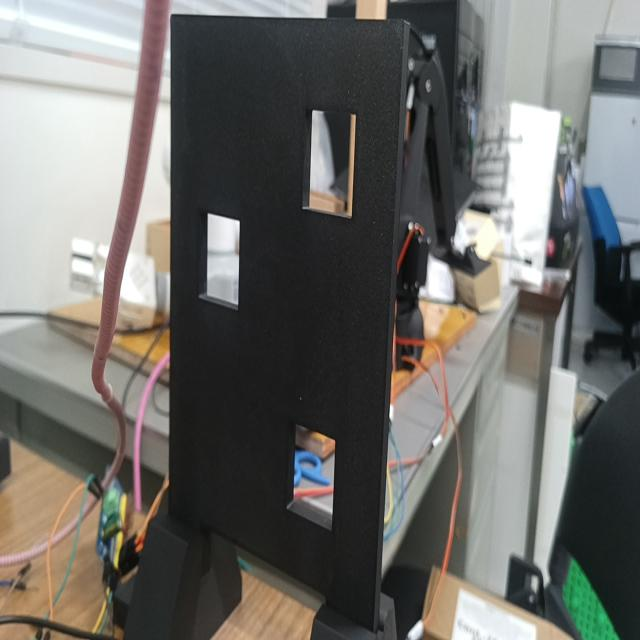Obstacle: (300, 110, 357, 219), (287, 422, 337, 529), (199, 213, 241, 310)
Wall: (170, 15, 404, 620)
